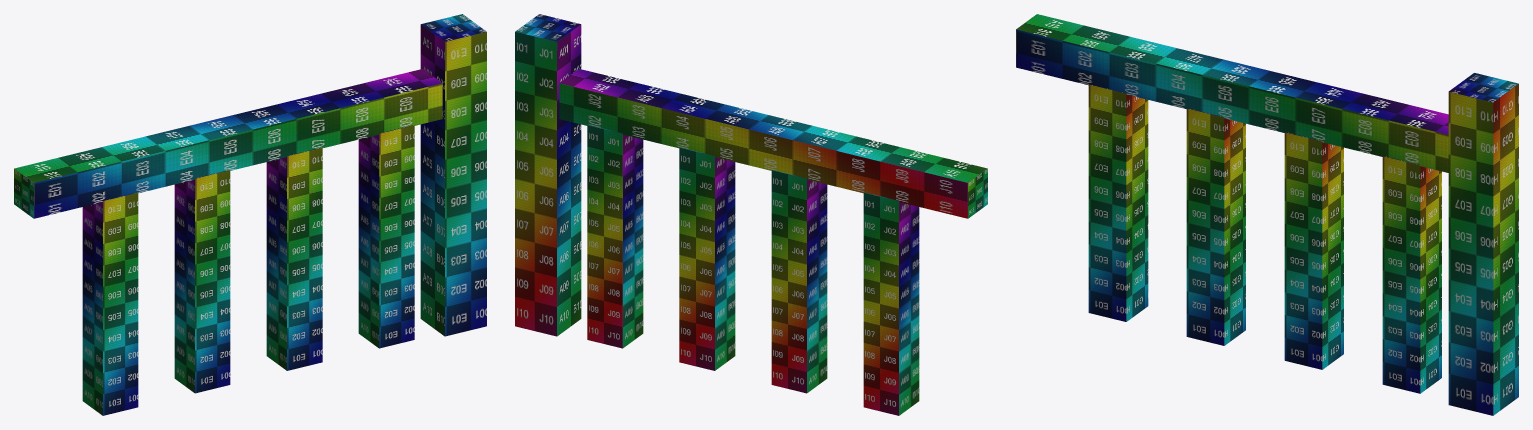
The model's file is railling.fbx.
3 renders of one model, left to right at view 1: azimuth 30°, elevation 25°; view 2: azimuth 150°, elevation 25°; view 3: azimuth 330°, elevation 25°, orthographic. The views are drawn at different scales.
Visible parts, largest first — view 1: 立方体.014; view 2: 立方体.014; view 3: 立方体.014.
Boxes of the visible parts, left/top/right/bottom form: 立方体.014: left=14, top=14, right=486, bottom=415; 立方体.014: left=515, top=14, right=987, bottom=415; 立方体.014: left=1016, top=14, right=1518, bottom=415.
Bounding box in the file's own units: 1364 × 852 × 127.
